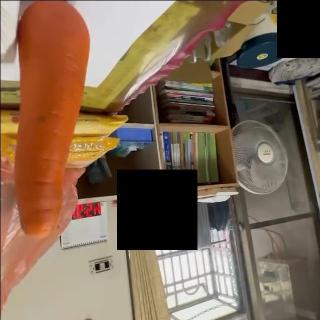carrot: (12, 0, 92, 238)
